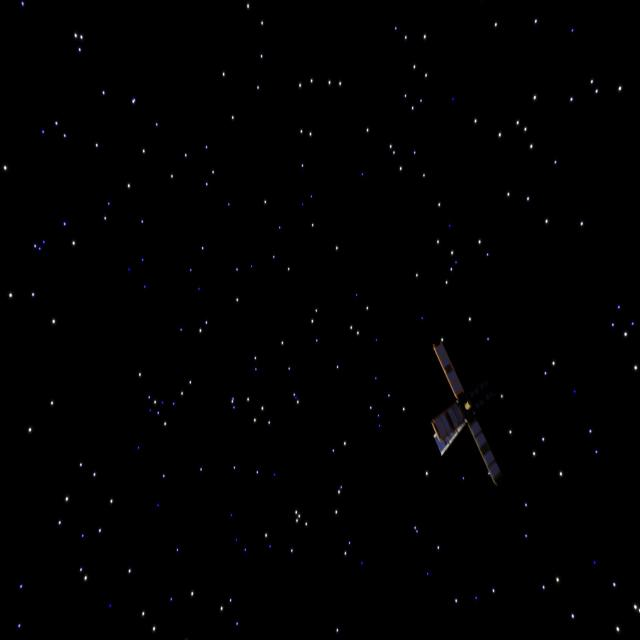medium_debris: (430, 349, 516, 492)
